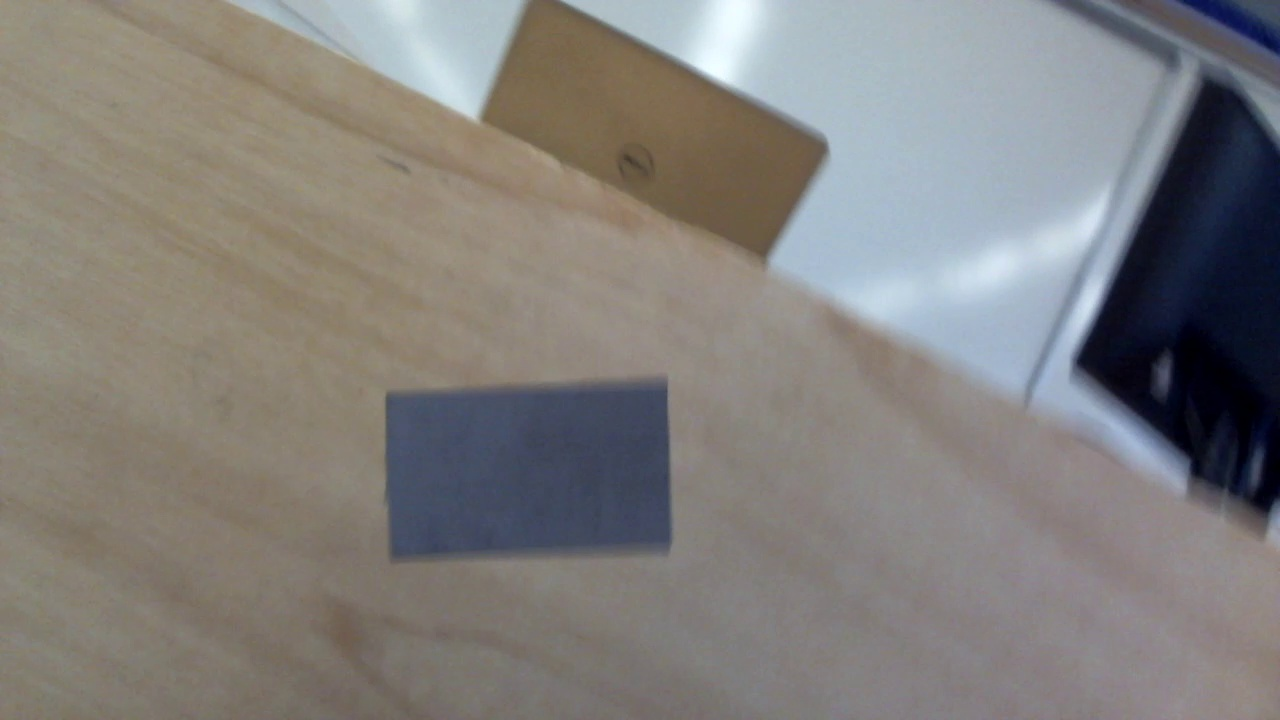Tape: (384, 378, 675, 561)
